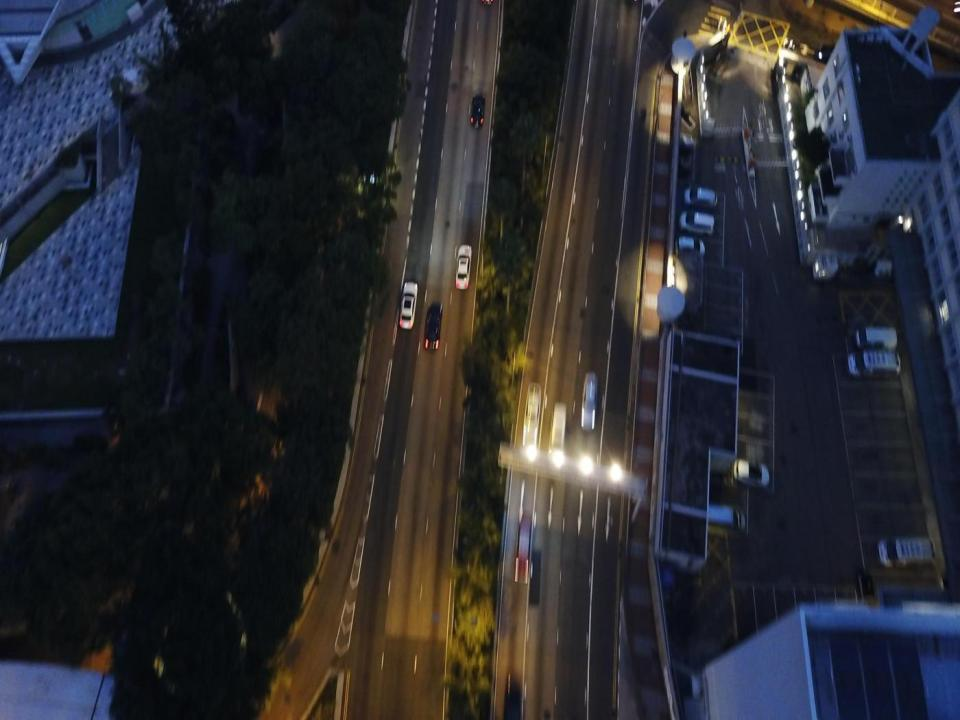car: (514, 510, 534, 586), (524, 383, 542, 450), (734, 459, 769, 487), (548, 399, 566, 453), (581, 374, 598, 431), (423, 303, 442, 351), (400, 282, 417, 330), (455, 243, 472, 290), (675, 238, 705, 254), (470, 96, 485, 125)
van: (879, 538, 938, 565), (847, 352, 902, 376), (856, 323, 897, 349), (706, 506, 747, 530), (681, 212, 714, 234), (684, 188, 718, 209)
